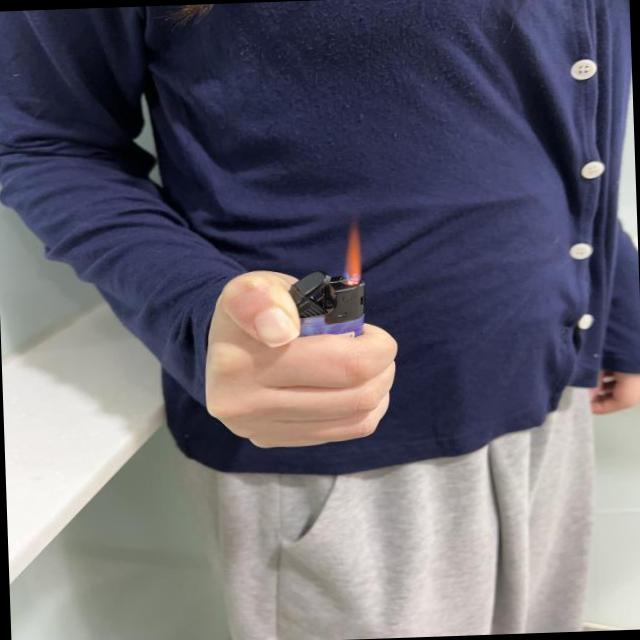Fire: (341, 218, 362, 286)
